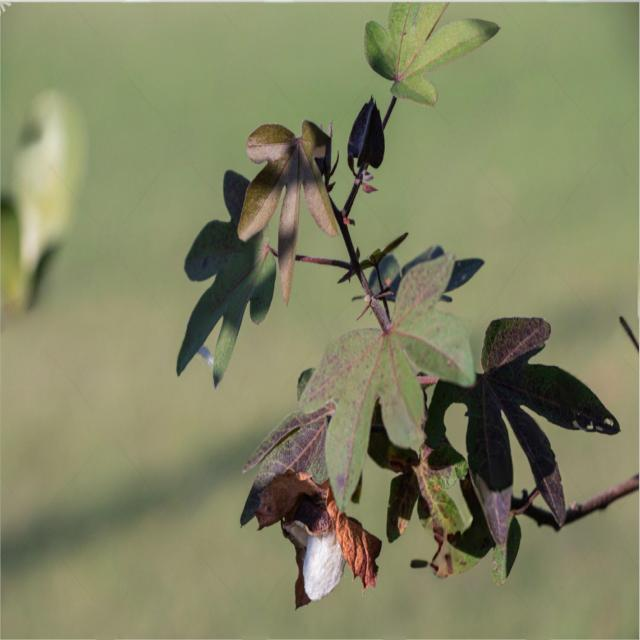Early_blight: (290, 490, 385, 612)
